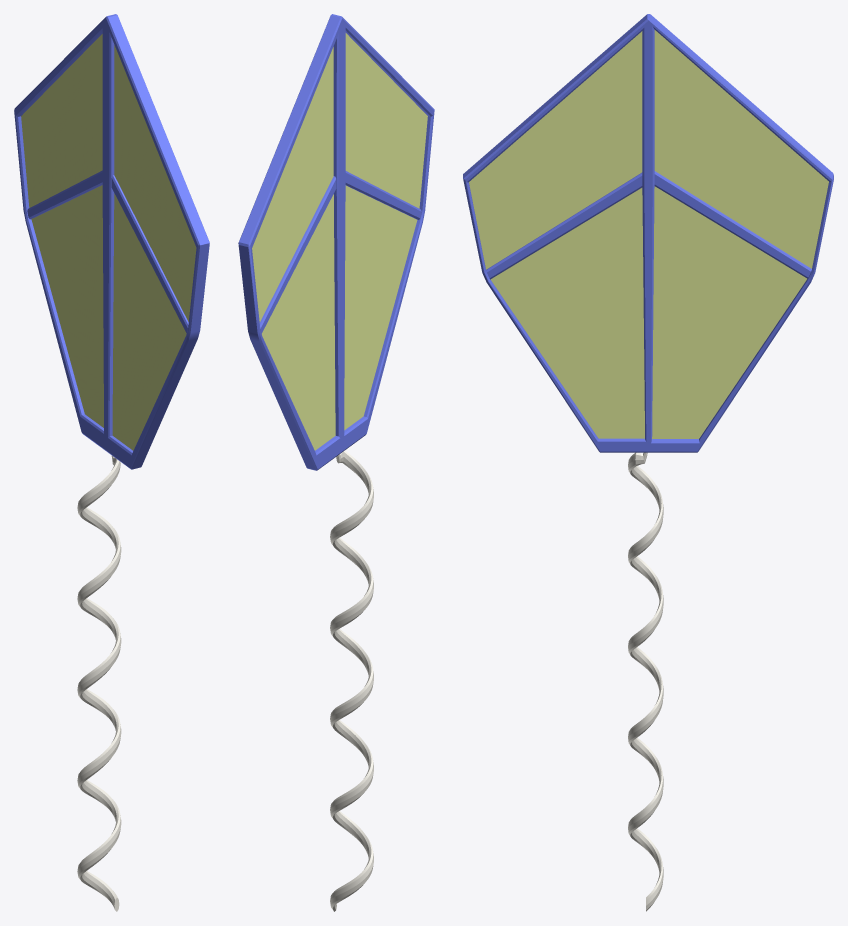
The model's file is Kite_4.fbx.
3 renders of one model, left to right at view 1: azimuth 30°, elevation 25°; view 2: azimuth 150°, elevation 25°; view 3: azimuth 270°, elevation 25°, orthographic.
Parts seen in each view (by area): view 1: Kite; view 2: Kite; view 3: Kite.
Boxes of the visible parts, <box> form: Kite: <box>14,14,209,911</box>; Kite: <box>238,14,434,911</box>; Kite: <box>463,14,833,911</box>.
Bounding box in the file's own units: 0.5592 × 11.93 × 4.48.
